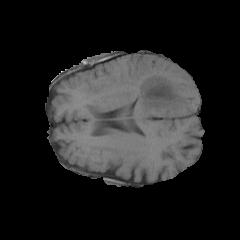glioma: (114, 60, 195, 122)
